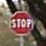stop: (9, 8, 33, 37)
